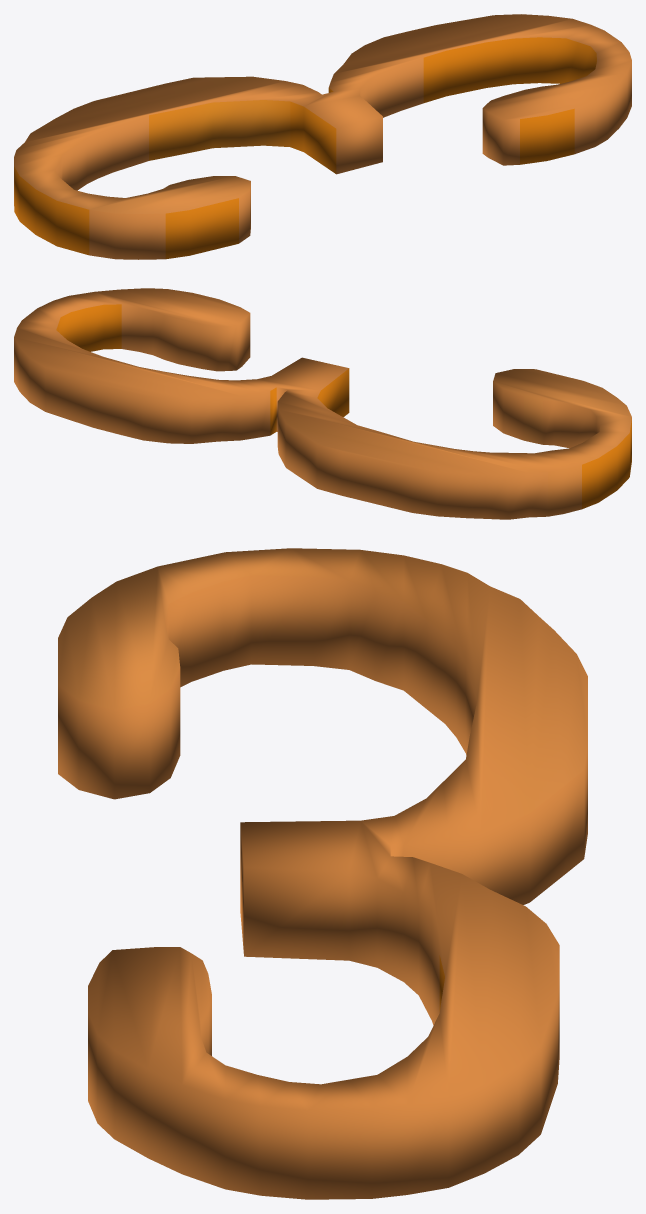
The picture shows the model from 3 angles, top to bottom: view 1: azimuth 30°, elevation 25°; view 2: azimuth 150°, elevation 25°; view 3: azimuth 270°, elevation 25°; orthographic projection. The views are drawn at different scales.
Parts seen in each view (by area): view 1: _; view 2: _; view 3: _.
Boxes of the visible parts, bbox=[...] form: _: bbox=[14, 14, 631, 259]; _: bbox=[14, 288, 631, 519]; _: bbox=[58, 548, 587, 1199].
Bounding box in the file's own units: 2.7 × 1.08 × 0.2.
